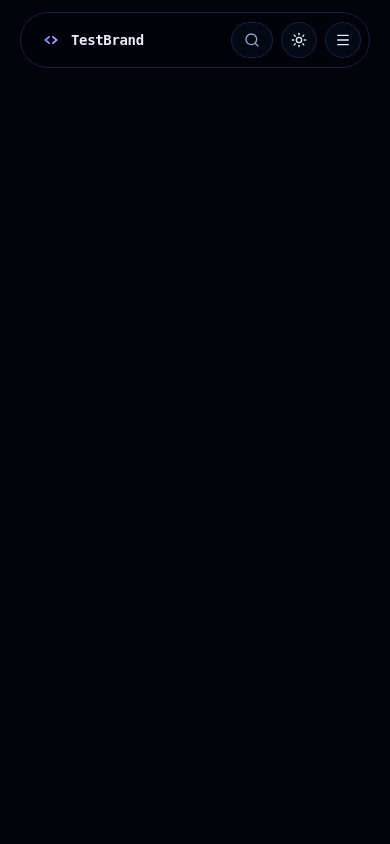
Test: Navbar › closes the mobile menu when a link is chosen
Click the button named "Open menu".
click(343, 40)  # box x1=325 y1=22 x2=361 y2=58
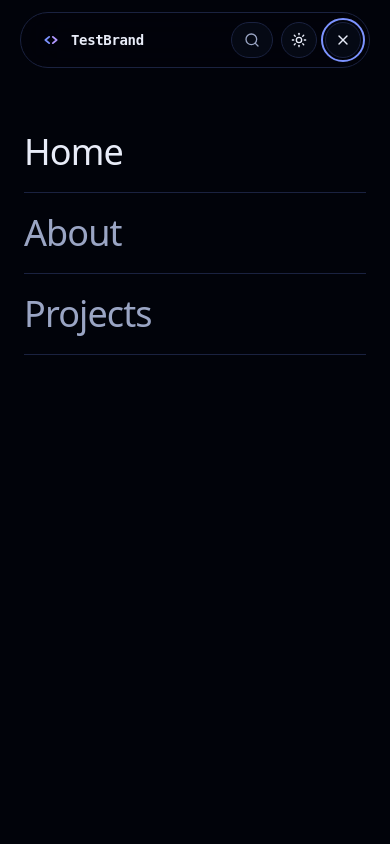
Click the link "About".
click(73, 232)  # box x1=24 y1=193 x2=366 y2=274
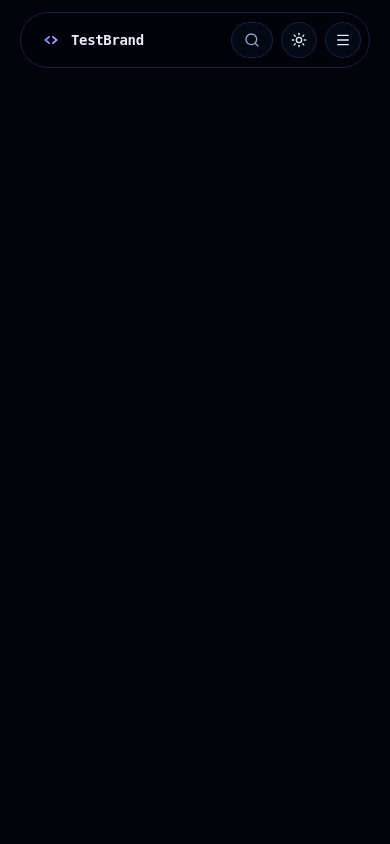
Expected: the button named "Open menu" is shown, x1=325 y1=22 x2=361 y2=58
